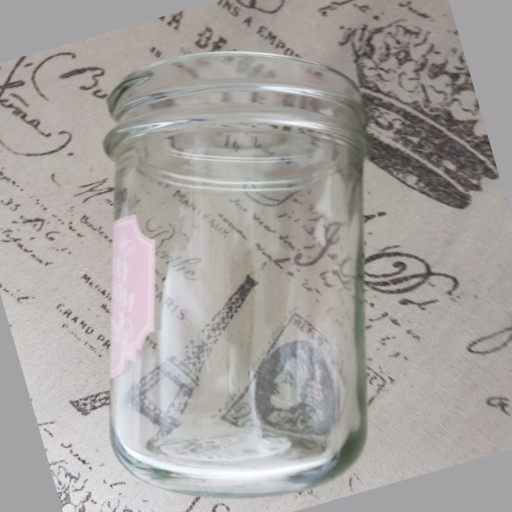Glass_5: (109, 54, 373, 490)
